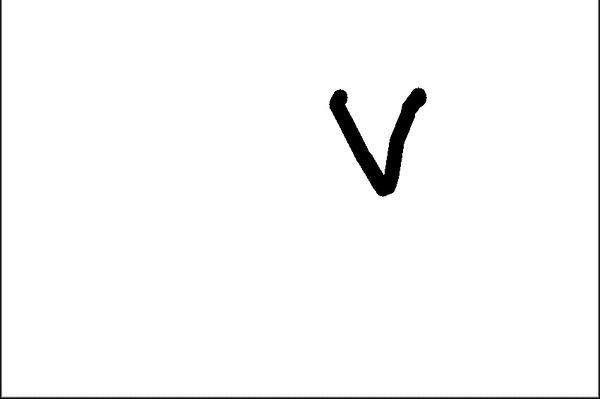V: (321, 71, 439, 220)
